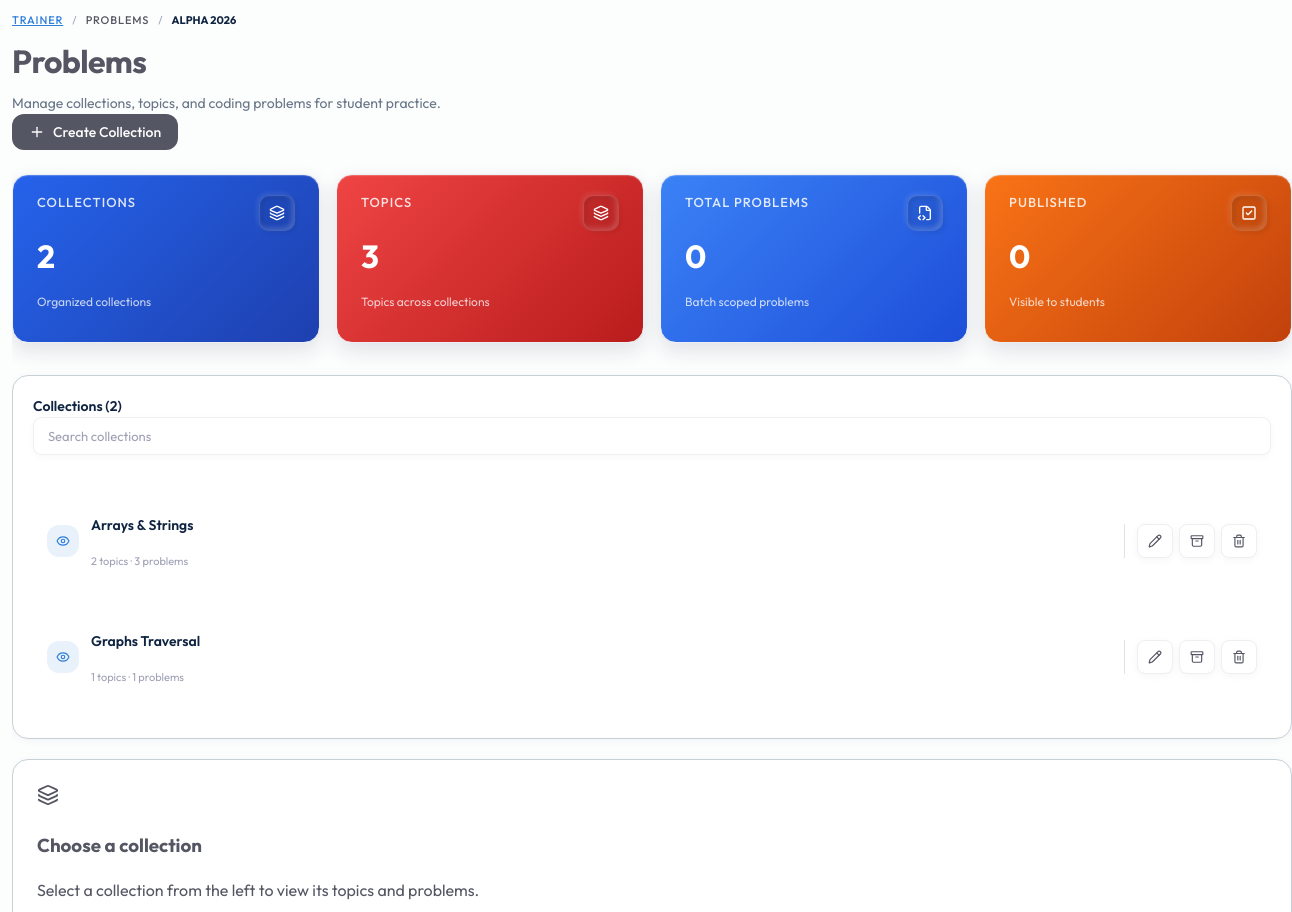
lists only owned collections, with a heading count and search
Expected: the heading "Collections (2)" is shown, [33,398,122,416]
Expected: the heading "Arrays & Strings" is shown, [91,516,193,534]
Type "graph" into the field labelled "Search collections" at (652, 436), box [33,418,1271,456]
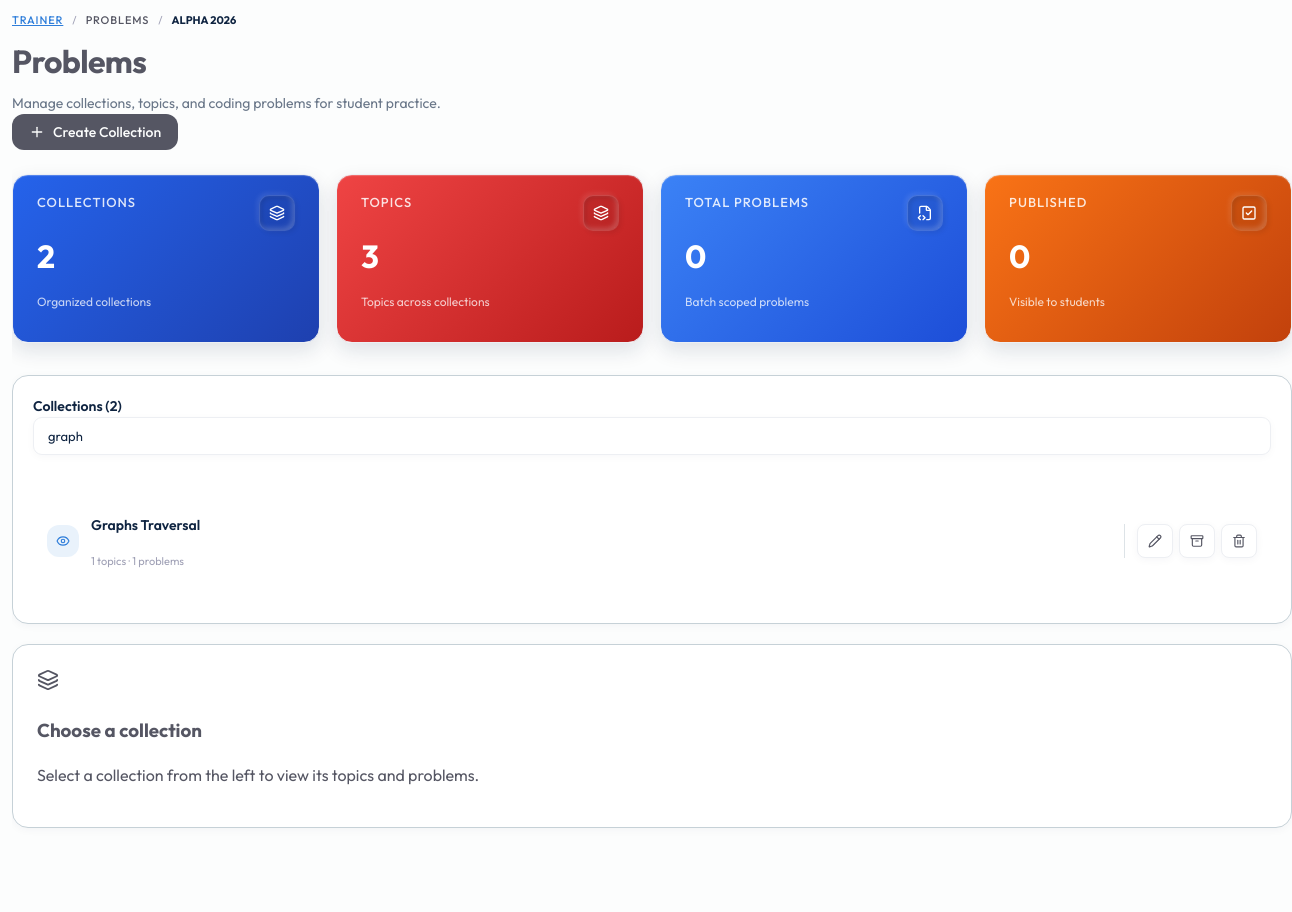
Expected: the heading "Graphs Traversal" is shown, [91,516,200,534]
Now the heading "Arrays & Strings" is gone
